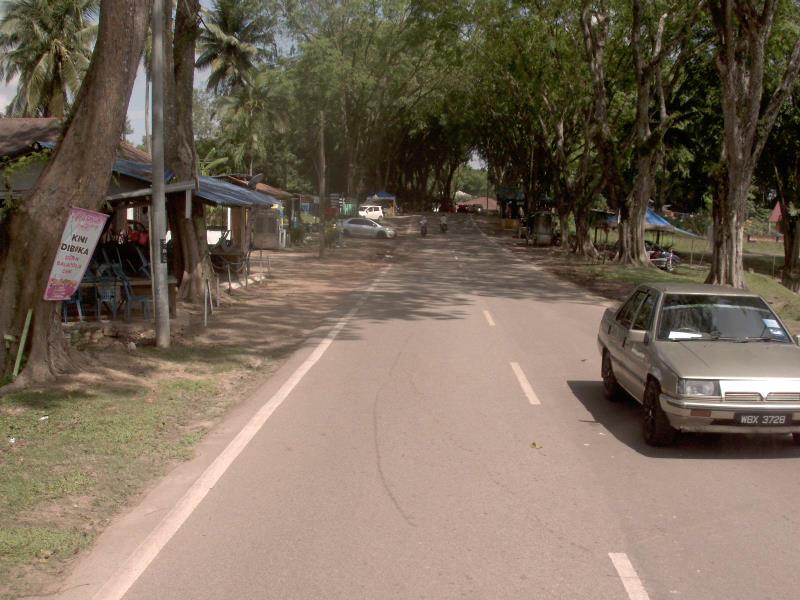ads_sign: (36, 197, 115, 312)
